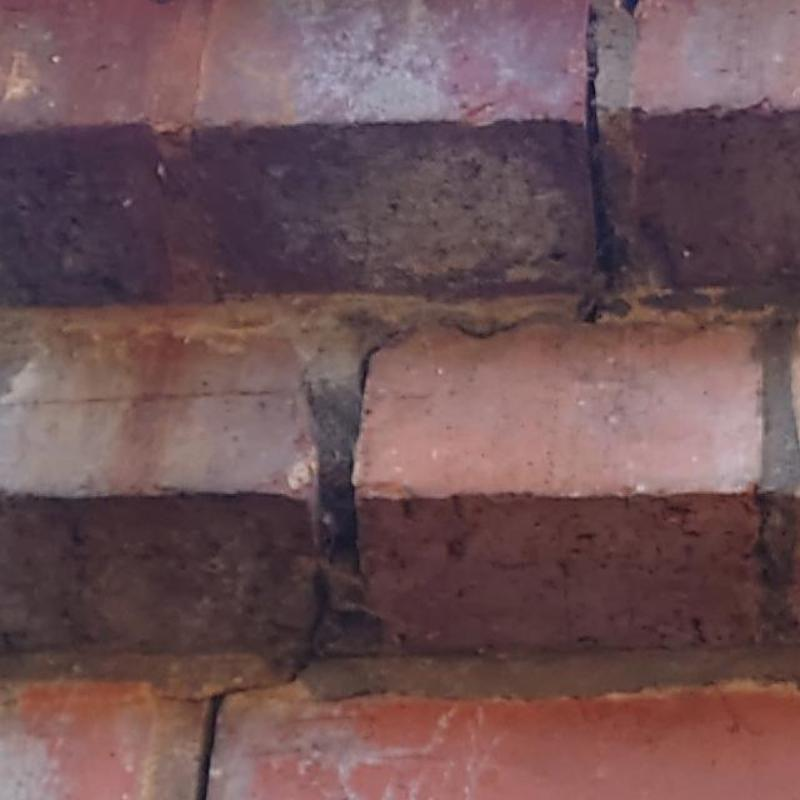pothole: (164, 575, 325, 705), (578, 6, 619, 322), (195, 694, 224, 799), (358, 329, 400, 398), (435, 316, 528, 340), (620, 0, 639, 15)
